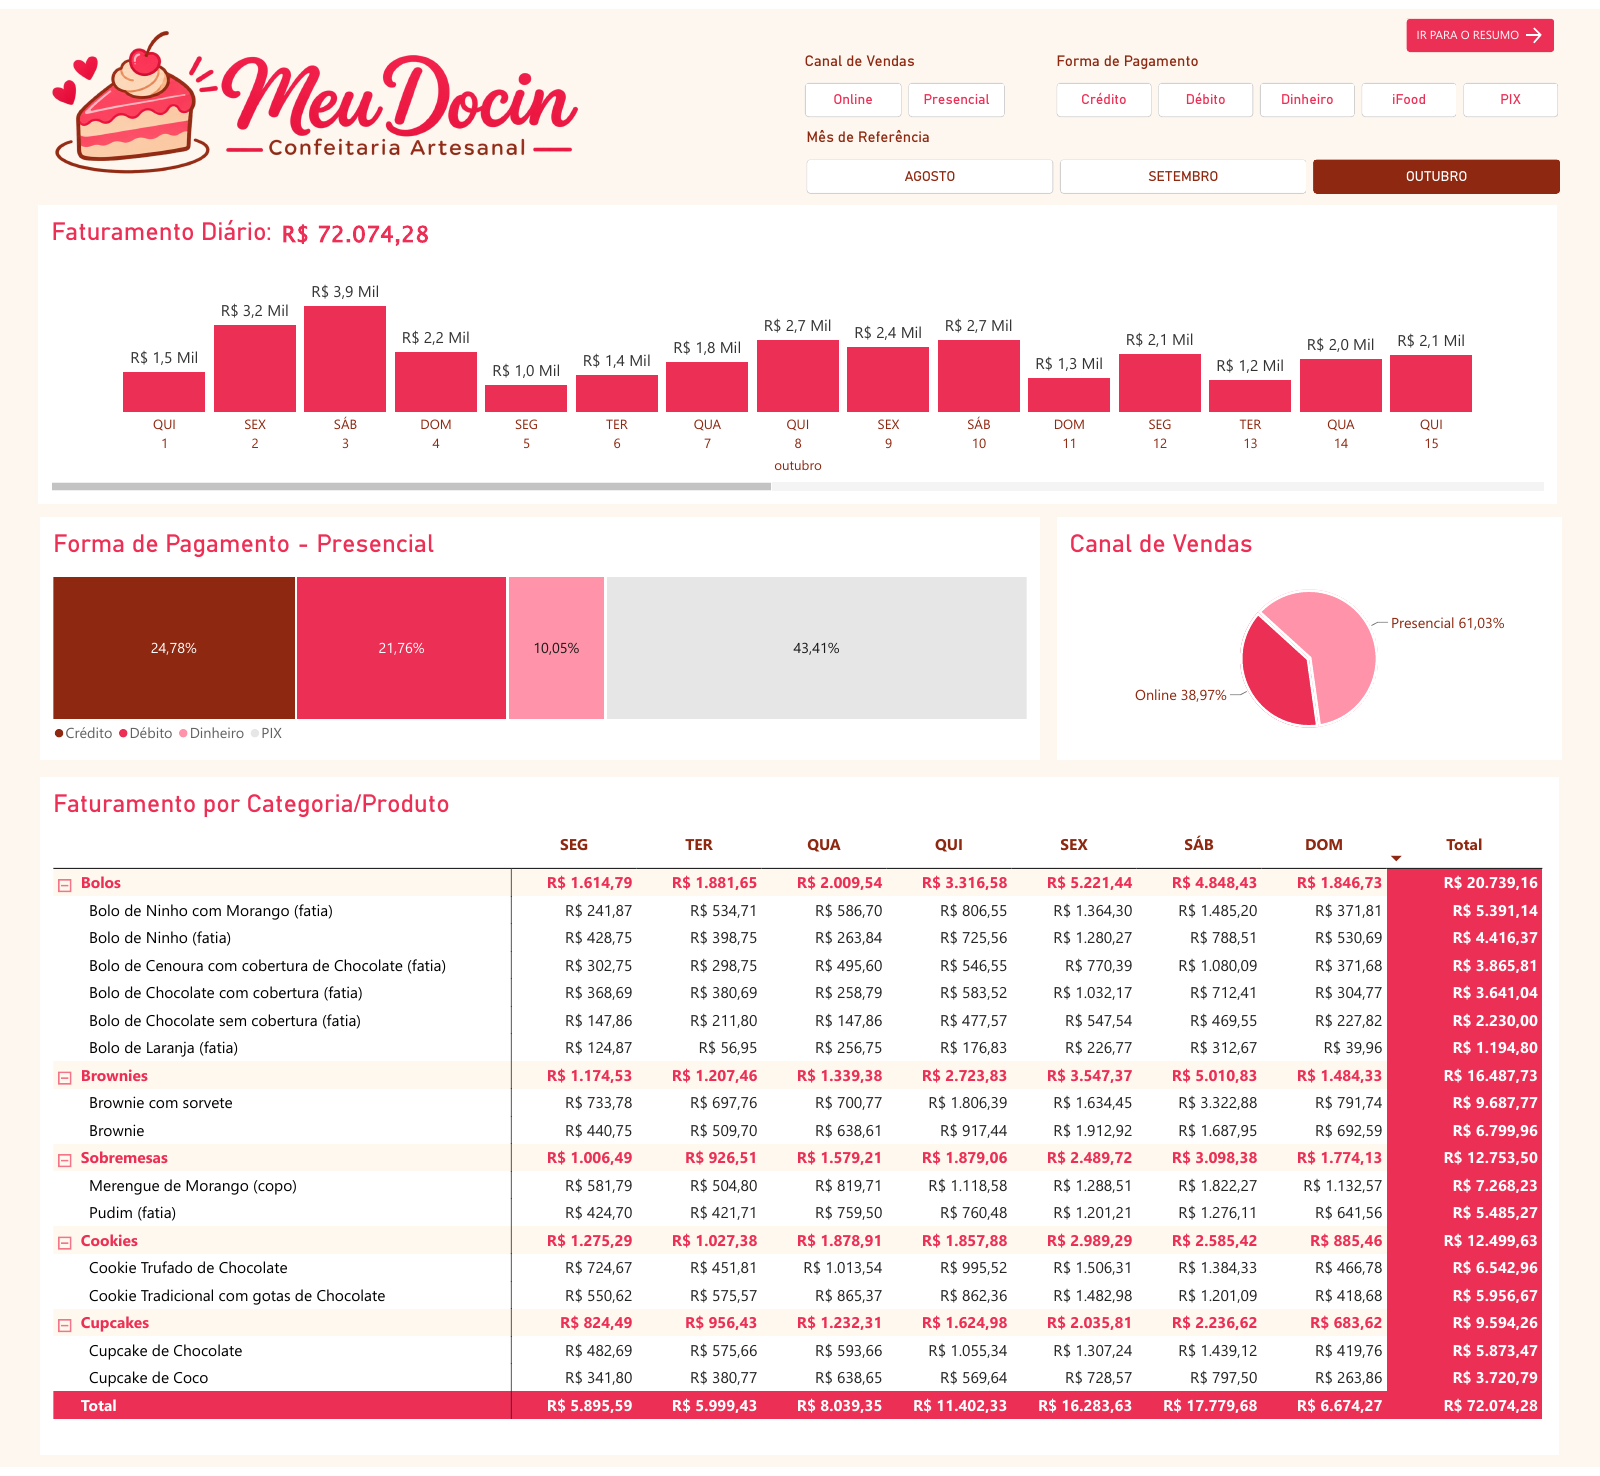

The page's visual inventory and layout, read from the dashboard file:
{"tool":"powerbi","page":{"name":"Detalhado","canvas":[1920,1750],"ordinal":1},"visuals":[{"type":"pivotTable","title":"Faturamento por Categoria/Produto","fields":{"Columns":["dCalendario.Nome Dia"],"Rows":["dCategoria.Categoria","dProduto.Produto"],"Values":["Medidas.Faturamento"]},"box":[48,922,1823.3,813.3],"z":0},{"type":"hundredPercentStackedBarChart","title":"Forma de Pagamento - Presencial","fields":{"Series":["dTipoPagamento.Forma_Pagamento"],"Y":["Medidas.Faturamento"]},"box":[48.6,610,1200,291.4],"z":1000},{"type":"advancedSlicerVisual","title":"Forma de Pagamento","fields":{"Values":["dTipoPagamento.Forma_Pagamento"]},"box":[1268.6,51,605,78.3],"z":2000},{"type":"advancedSlicerVisual","title":"Canal de Vendas","fields":{"Values":["dCanal.Canal"]},"box":[966.9,51,240,78.3],"z":3000},{"type":"columnChart","title":"Faturamento Diário:","fields":{"Category":["dCalendario.Date.Variação.Hierarquia de datas.Mês","dCalendario.Date.Variação.Hierarquia de datas.Dia","dCalendario.Nome Dia"],"Y":["Medidas.Faturamento"]},"box":[46.7,236.7,1823.3,358.3],"z":4000},{"type":"cardVisual","title":"Resumo","fields":{"Data":["Medidas.Faturamento"]},"box":[321.7,236.7,310,71.7],"z":5000},{"type":"image","box":[0,0,752.9,237.1],"z":6000},{"type":"advancedSlicerVisual","title":"Mês de Referência","fields":{"Values":["dCalendario.Nome Mês"]},"box":[967.1,143.7,906.7,78.3],"z":7000},{"type":"pieChart","title":"Canal de Vendas","fields":{"Series":["dCanal.Canal"],"Y":["Medidas.Faturamento"]},"box":[1268.6,610,605.7,291.4],"z":8000},{"type":"actionButton","box":[1688.6,12.9,177.1,40],"z":9000}]}

Visuals, with their boxes in screenshot pixels (x1, y1, x2, y2), scaled from the page's 1920x1750 canvas onto the 1600x1476 screenshot:
"Faturamento por Categoria/Produto" pivotTable: [x1=40, y1=778, x2=1559, y2=1464]
"Forma de Pagamento - Presencial" hundredPercentStackedBarChart: [x1=40, y1=514, x2=1040, y2=760]
"Forma de Pagamento" advancedSlicerVisual: [x1=1057, y1=43, x2=1561, y2=109]
"Canal de Vendas" advancedSlicerVisual: [x1=806, y1=43, x2=1006, y2=109]
"Faturamento Diário:" columnChart: [x1=39, y1=200, x2=1558, y2=502]
"Resumo" cardVisual: [x1=268, y1=200, x2=526, y2=260]
image: [x1=0, y1=0, x2=627, y2=200]
"Mês de Referência" advancedSlicerVisual: [x1=806, y1=121, x2=1562, y2=187]
"Canal de Vendas" pieChart: [x1=1057, y1=514, x2=1562, y2=760]
actionButton: [x1=1407, y1=11, x2=1555, y2=45]
